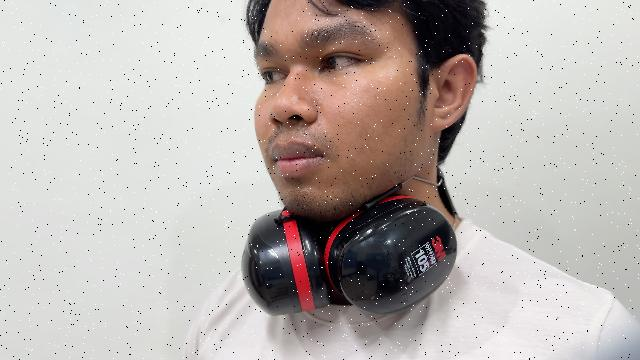headphones: (242, 183, 456, 315)
left_ear: (430, 54, 477, 131)
